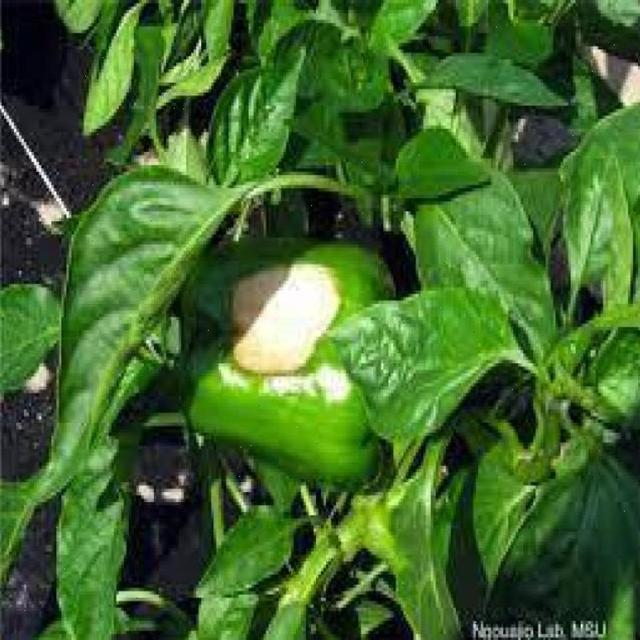Sunscald Fruit: (138, 84, 298, 335)
